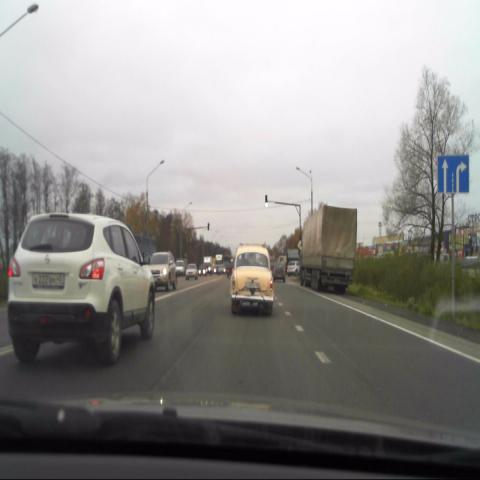5_15_2_2: (435, 151, 470, 193)
